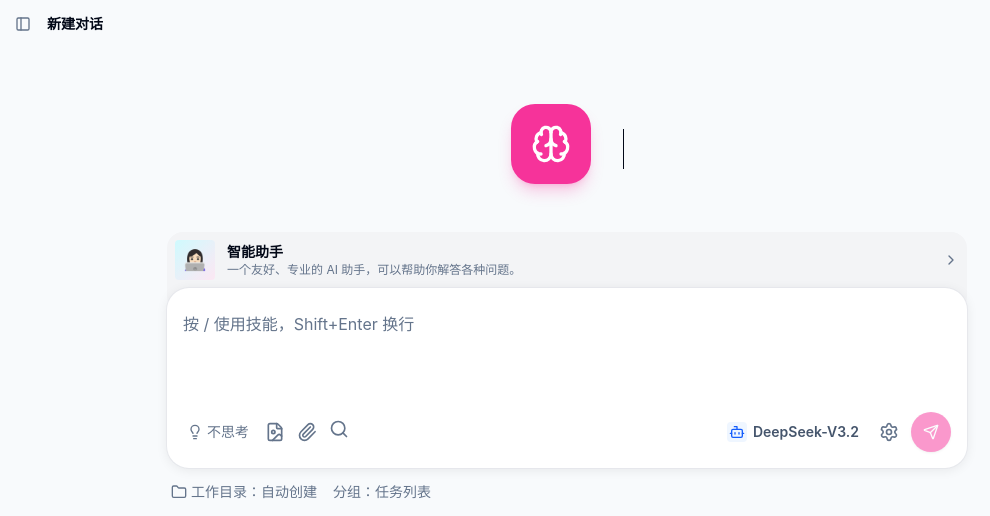
Test: NewSessionPage › shortens prefixed model names only in the selected model button
Click the button "DeepSeek-V3.2".
click(793, 432)  # box [719,418,867,446]
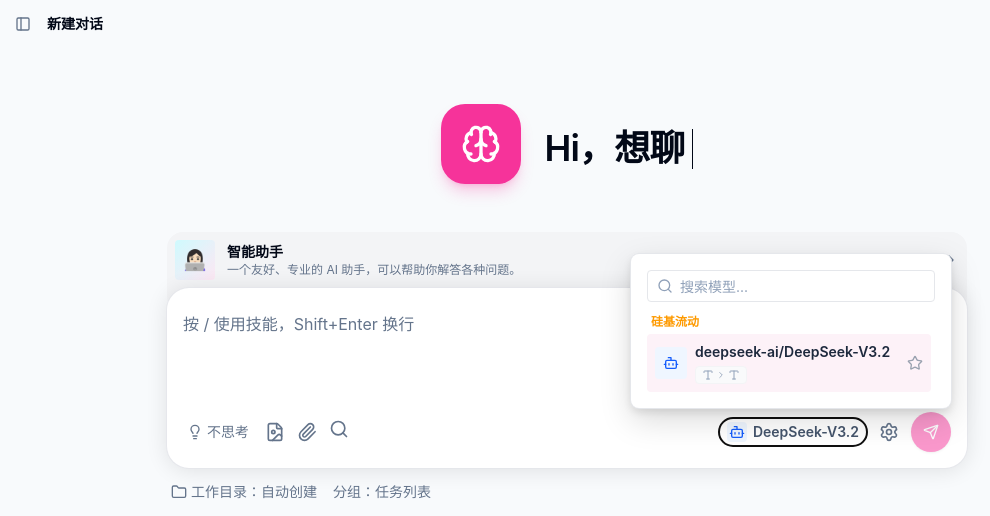
Result: the button "deepseek-ai/DeepSeek-V3.2" is shown at [647,334,931,392]
